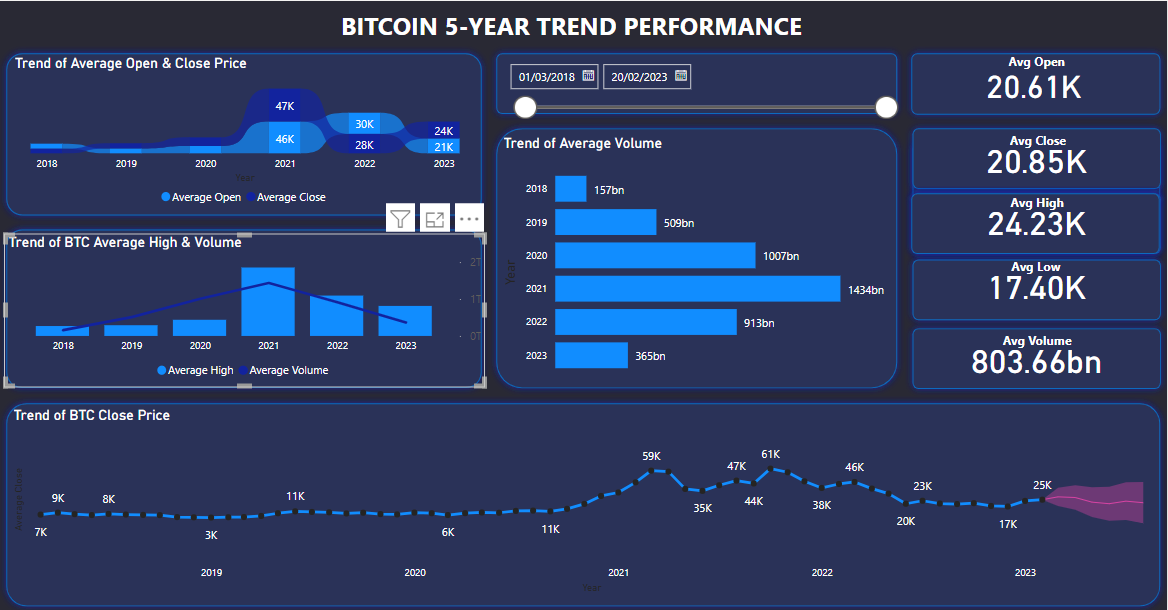

The page's visual inventory and layout, read from the dashboard file:
{"tool":"powerbi","page":{"name":"Page 1","canvas":[1280,720],"ordinal":0},"visuals":[{"type":"shape","box":[0,98.8,536.5,193.5],"z":0},{"type":"shape","box":[0,292.3,536.5,189.4],"z":1000},{"type":"shape","box":[536.5,98.8,455.6,82.3],"z":2000},{"type":"shape","box":[536.5,181.1,455.6,300.5],"z":3000},{"type":"shape","box":[0,481.6,1280.3,238.8],"z":4000},{"type":"shape","box":[992.7,197.2,287.5,82.2],"z":5000},{"type":"ribbonChart","title":"Trend of Average Open & Close Price","fields":{"Category":["BTC.Date.Variation.Date Hierarchy.Year"],"Y":["BTC.Average Open","BTC.Average Close"]},"box":[12.3,108.2,514.8,173.9],"z":6000},{"type":"lineClusteredColumnComboChart","title":"Trend of BTC Average High & Volume","fields":{"Category":["BTC.Date.Variation.Date Hierarchy.Year"],"Y":["BTC.Average High"],"Y2":["BTC.Average Volume"]},"box":[5.5,304,527.2,168.4],"z":7000},{"type":"clusteredBarChart","title":"Trend of Average Volume ","fields":{"Category":["BTC.Date.Variation.Date Hierarchy.Year"],"Y":["BTC.Average Volume"]},"box":[547.7,195.8,435.4,276.6],"z":8000},{"type":"shape","box":[992.1,181.1,288.2,82.3],"z":9000},{"type":"shape","box":[992.1,252.5,288.2,82.3],"z":10000},{"type":"shape","box":[992.1,323.8,288.2,82.3],"z":11000},{"type":"shape","box":[992.1,399.3,288.2,82.3],"z":12000},{"type":"textbox","box":[1087.2,98.6,93.1,28.8],"z":13000},{"type":"card","fields":{"Values":["BTC.Average Close"]},"box":[1002.3,187.6,268.4,68.5],"z":14000},{"type":"textbox","box":[1102.3,187.6,97.2,28.8],"z":15000},{"type":"shape","box":[991.4,98.6,288.9,83.5],"z":16000},{"type":"card","fields":{"Values":["BTC.Average Open"]},"box":[999.6,110.9,268.4,58.9],"z":17000},{"type":"shape","box":[991.8,252.5,288.2,82.3],"z":18000},{"type":"textbox","box":[1088.6,256.1,97.2,28.8],"z":19000},{"type":"textbox","box":[1087.2,325.9,97.2,28.8],"z":20000},{"type":"textbox","box":[1088.6,406.7,97.2,28.8],"z":21000},{"type":"card","fields":{"Values":["BTC.Average High"]},"box":[1002.3,256.1,268.4,68.5],"z":22000},{"type":"card","fields":{"Values":["BTC.Average Low"]},"box":[1002.3,325.9,268.4,68.5],"z":23000},{"type":"card","fields":{"Values":["BTC.Average Volume"]},"box":[1002.3,406.7,268.4,68.5],"z":24000},{"type":"textbox","box":[1100.9,101.3,75.3,30.1],"z":25000},{"type":"lineChart","title":"Trend of BTC Close Price","fields":{"Category":["BTC.Date.Variation.Date Hierarchy.Year","BTC.Date.Variation.Date Hierarchy.Month"],"Y":["BTC.Average Close"]},"box":[11,494.3,1259.7,208.1],"z":26000},{"type":"slicer","fields":{"Values":["BTC.Date"]},"box":[547.7,108.2,445,73.9],"z":27000},{"type":"textbox","box":[336.8,53.4,580.6,45.2],"z":28000}]}

Visuals, with their boxes on the page's 1280x720 design canvas (x1, y1, x2, y2). These are canvas units, not pixel positions in the 1168x610 screenshot, which may show the page scaled, cropped or inside an application window:
shape: [0,99,536,292]
shape: [0,292,536,482]
shape: [536,99,992,181]
shape: [536,181,992,482]
shape: [0,482,1280,720]
shape: [993,197,1280,279]
"Trend of Average Open & Close Price" ribbonChart: [12,108,527,282]
"Trend of BTC Average High & Volume" lineClusteredColumnComboChart: [6,304,533,472]
"Trend of Average Volume " clusteredBarChart: [548,196,983,472]
shape: [992,181,1280,263]
shape: [992,252,1280,335]
shape: [992,324,1280,406]
shape: [992,399,1280,482]
textbox: [1087,99,1180,127]
card - BTC.Average Close: [1002,188,1271,256]
textbox: [1102,188,1200,216]
shape: [991,99,1280,182]
card - BTC.Average Open: [1000,111,1268,170]
shape: [992,252,1280,335]
textbox: [1089,256,1186,285]
textbox: [1087,326,1184,355]
textbox: [1089,407,1186,436]
card - BTC.Average High: [1002,256,1271,325]
card - BTC.Average Low: [1002,326,1271,394]
card - BTC.Average Volume: [1002,407,1271,475]
textbox: [1101,101,1176,131]
"Trend of BTC Close Price" lineChart: [11,494,1271,702]
slicer - BTC.Date: [548,108,993,182]
textbox: [337,53,917,99]
